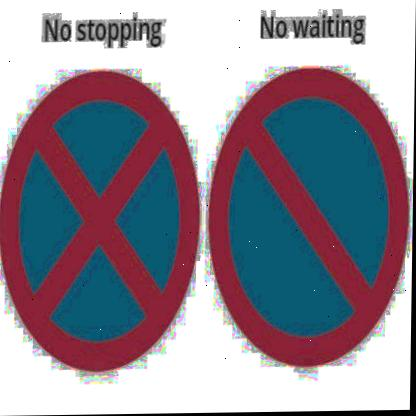No stopping: (0, 71, 206, 379)
